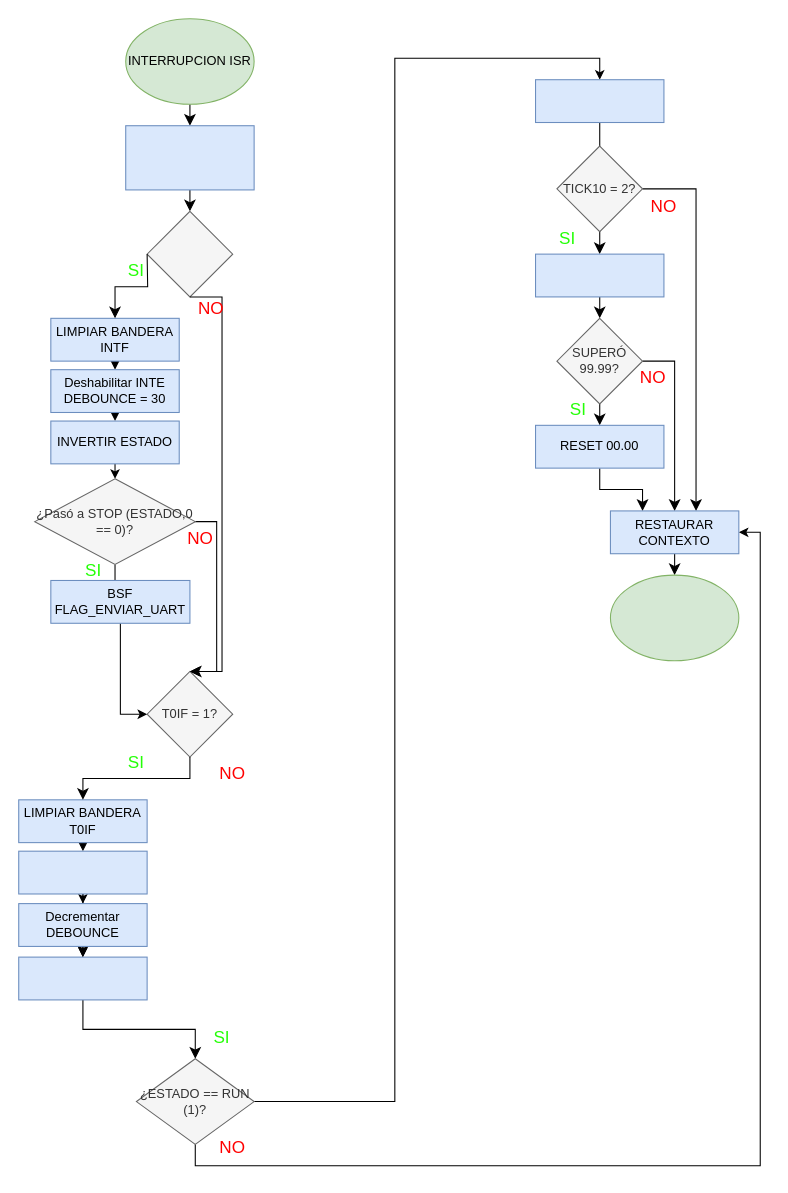
Image size: 788x1193. Some labels were removed from this diagram. The shapes that lost their labels are listed below. From the top down, each one's centre as x and y in pixels, then its label:
(x=599, y=101): Incrementar TICK10
(x=189, y=157): GUARDAR CONTEXTO
(x=189, y=253): ¿INTF == 1?
(x=599, y=275): Incrementar tiempo (0.01 s / SS.CC)
(x=674, y=617): RETFIE
(x=82, y=872): RECARGAR TMR0=100
(x=82, y=978): MULTIPLEXAR DISPLAY
